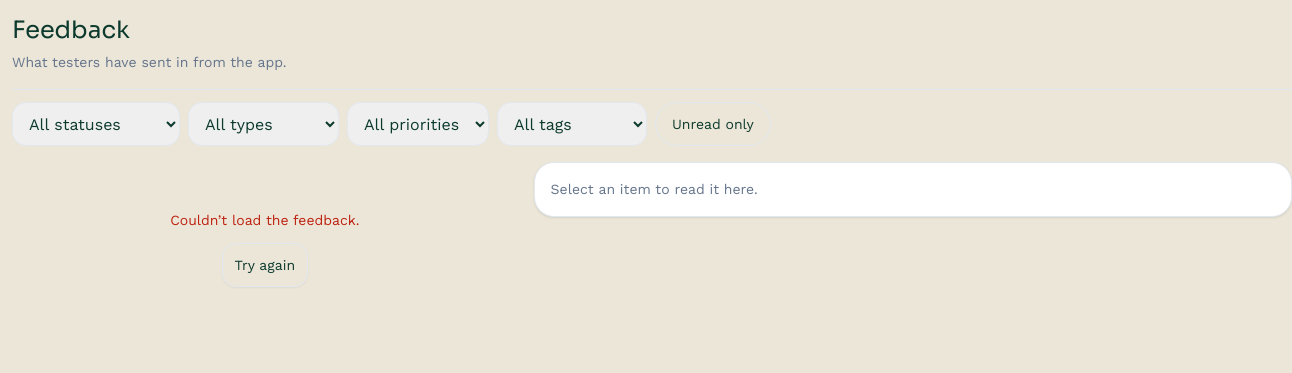
a failed load says so, and trying again loads the rows
Expected: the message reads "Couldn’t load the feedback.", [170,212,359,228]
Click the button "Try again".
click(265, 265)  # box [222,243,308,287]
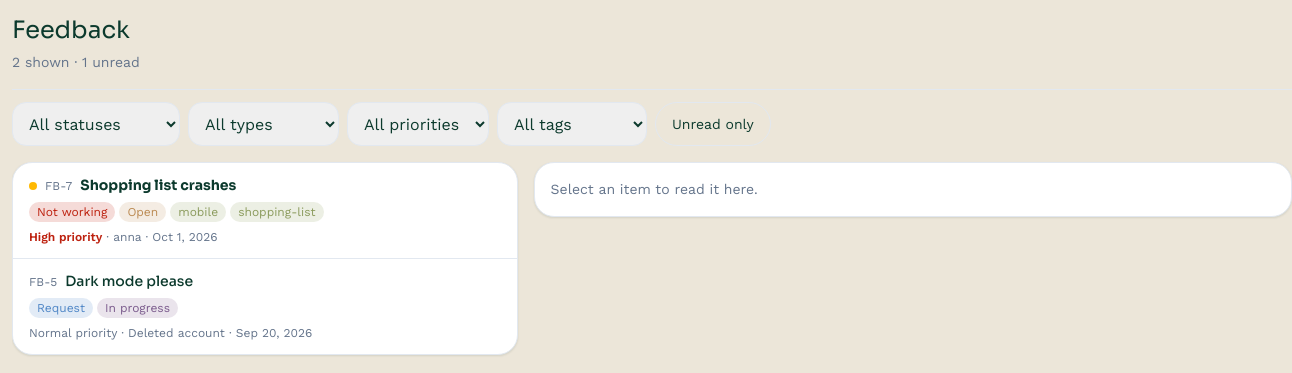
Expected: the text "Shopping list crashes" is shown, [80,175,236,196]
